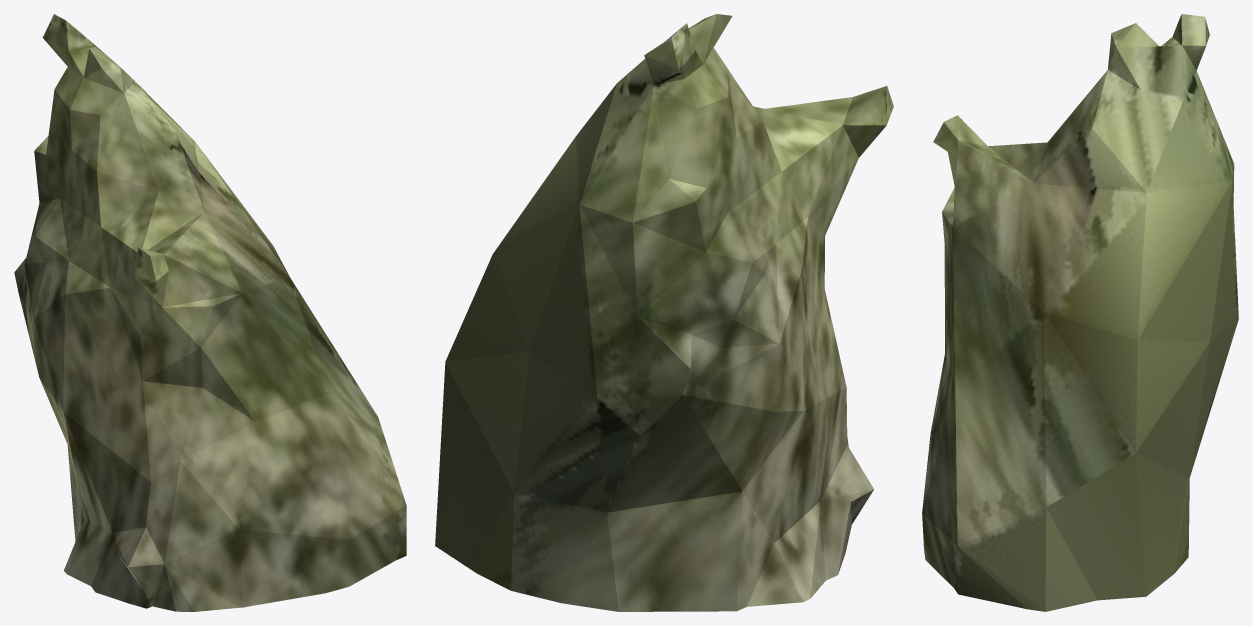
The picture shows the model from 3 angles, left to right: view 1: azimuth 30°, elevation 25°; view 2: azimuth 150°, elevation 25°; view 3: azimuth 270°, elevation 25°; orthographic projection. The views are drawn at different scales.
Size of the model in its own units: 1.16 by 1.77 by 1.07.
1 material, 1 textured.
